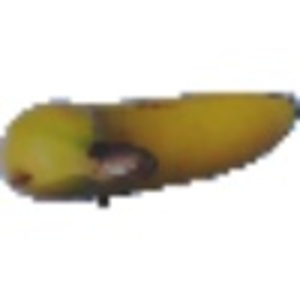banana: (4, 82, 291, 202)
